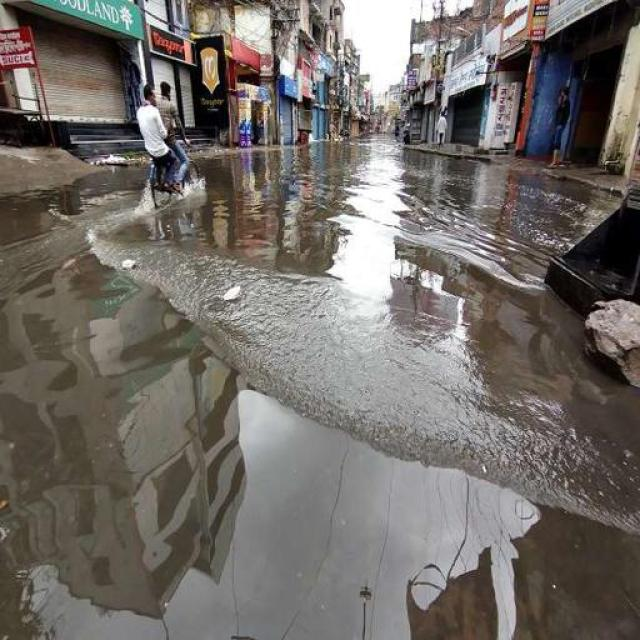puddle: (3, 298, 592, 640), (205, 158, 565, 632)
